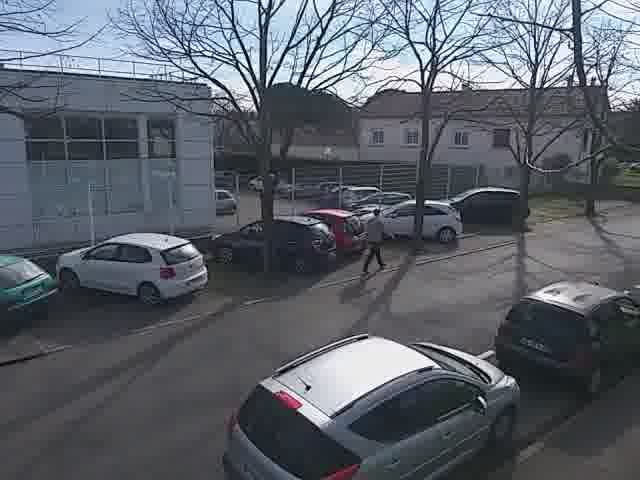persona: (359, 195, 394, 275)
